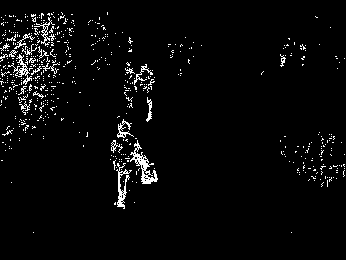person: (112, 118, 159, 209), (136, 61, 158, 121)
